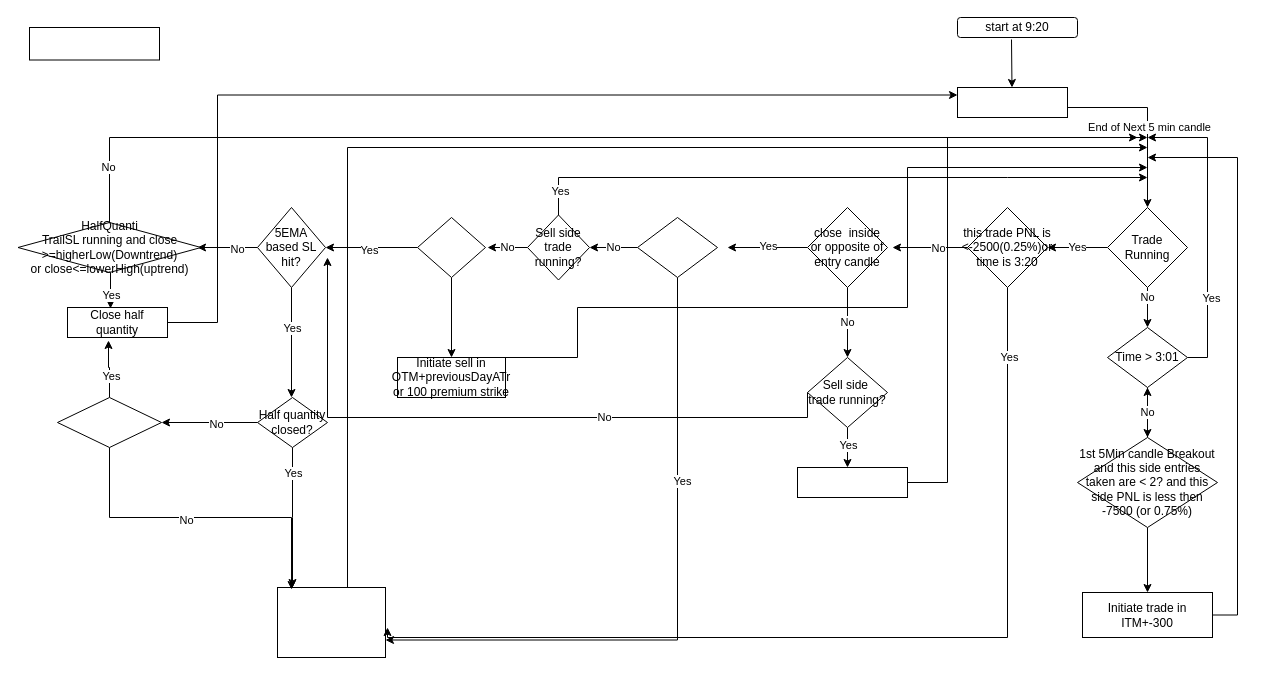
Image size: 1263x675. Some labels were removed from this diagram. Each missing label, with the centre of its shape:
"30 mins after entry" goes at (x=451, y=247).
"Close all position tagged to this strategy Mark trade running False" goes at (x=331, y=622).
"Close only sell side trade" goes at (x=852, y=482).
"Close opposite side low/high of entry candle" goes at (x=677, y=247).
"Half quantity Trail SL Not initiated and PNL>=1%(10K)" goes at (x=94, y=43).
"Note 1st 5 min candle High/Low" goes at (x=1012, y=102).
"PNL-2500<= +2500 i.e. in between +-0.25% and time <1:30" goes at (x=109, y=422).
